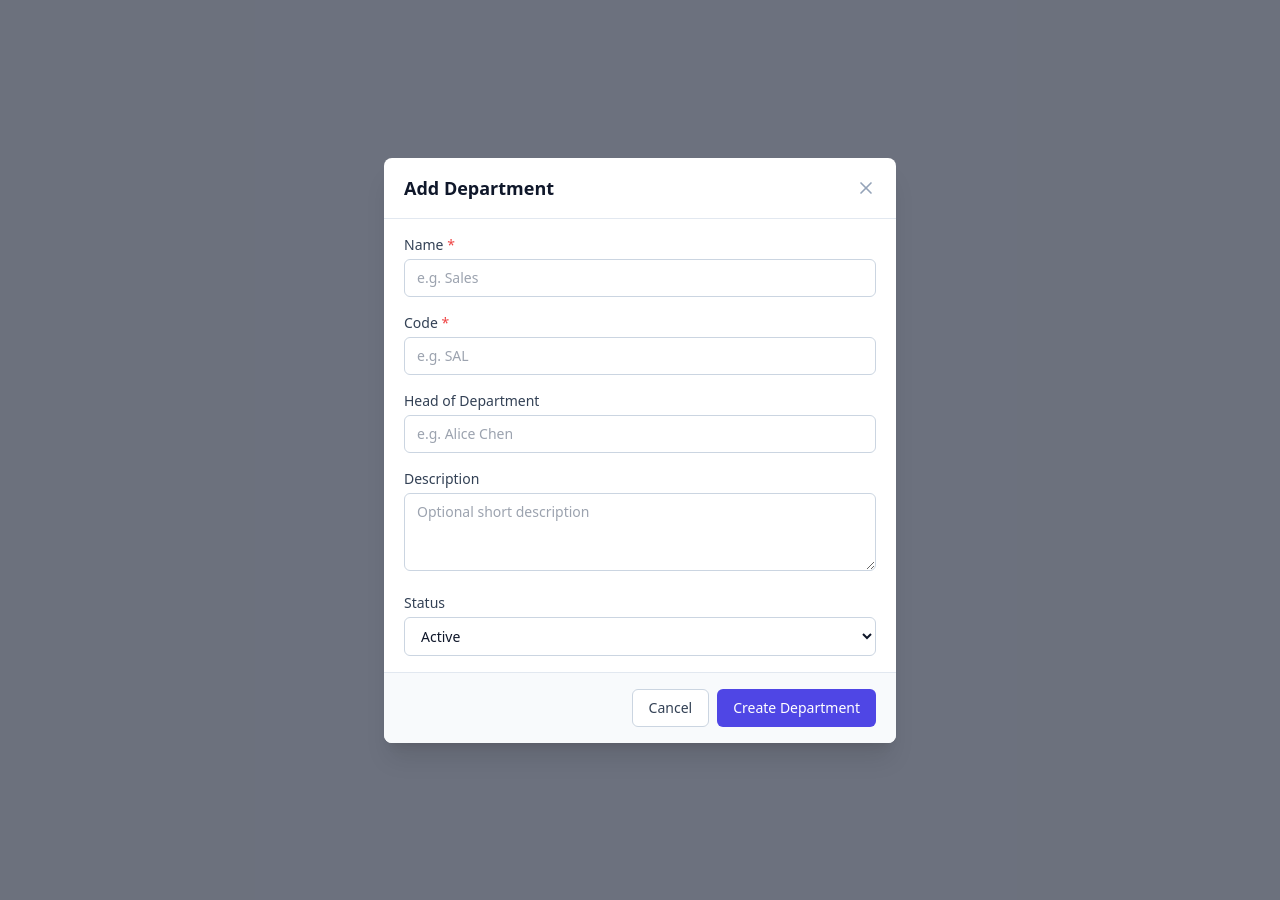
Department and KPI Modals › DepartmentFormModal › validates required name and code lengths before submission
The width and height of the screenshot is (1280, 900).
// Click save on empty form
What coordinates should you click on to do the following:
click the button "Create Department"
I would click on:
 (797, 708)
Its box is [717,688,876,726].
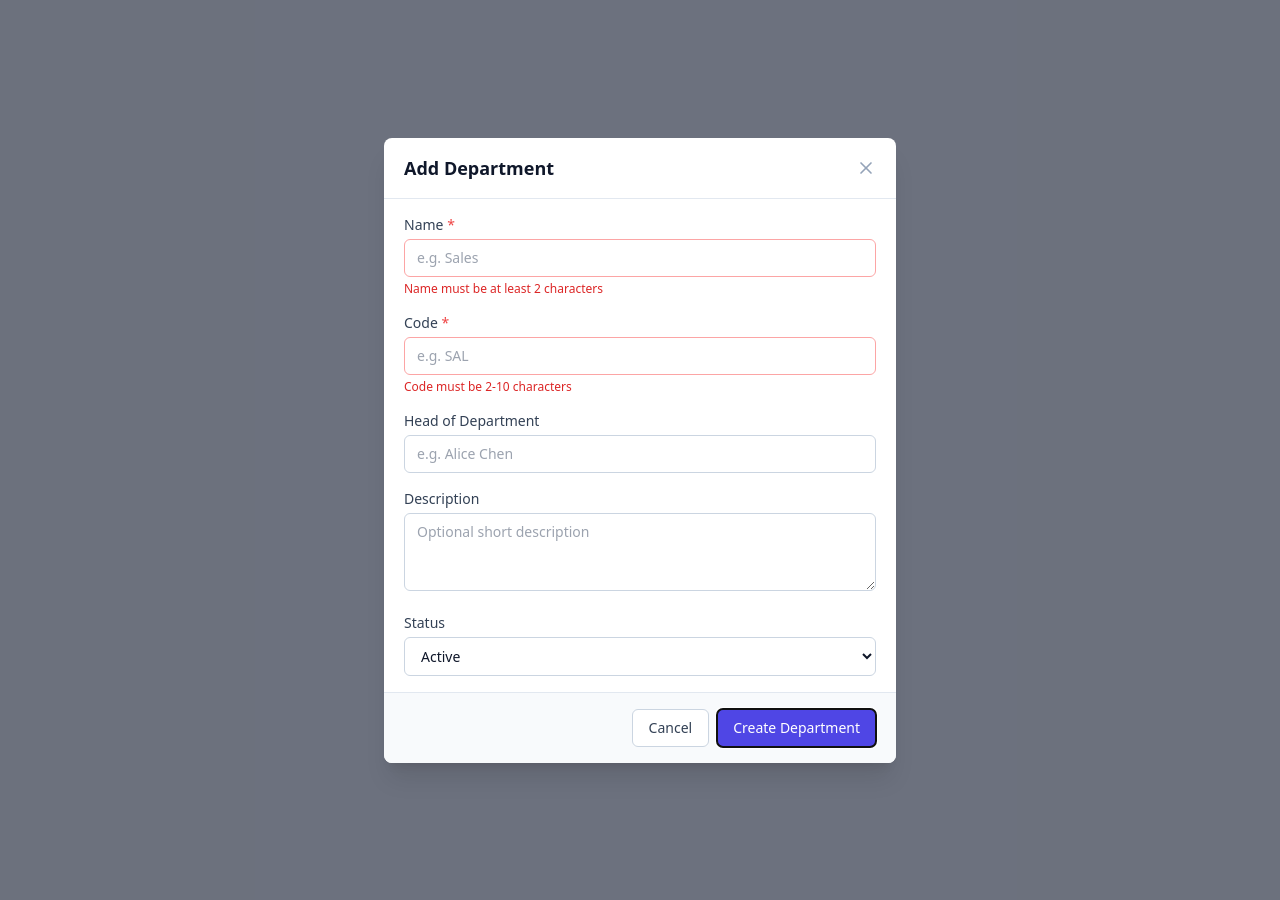
Result: the text "Name must be at least 2 characters" is shown at [404,280,603,296]
Result: the text "Code must be 2-10 characters" is shown at [404,378,572,394]
